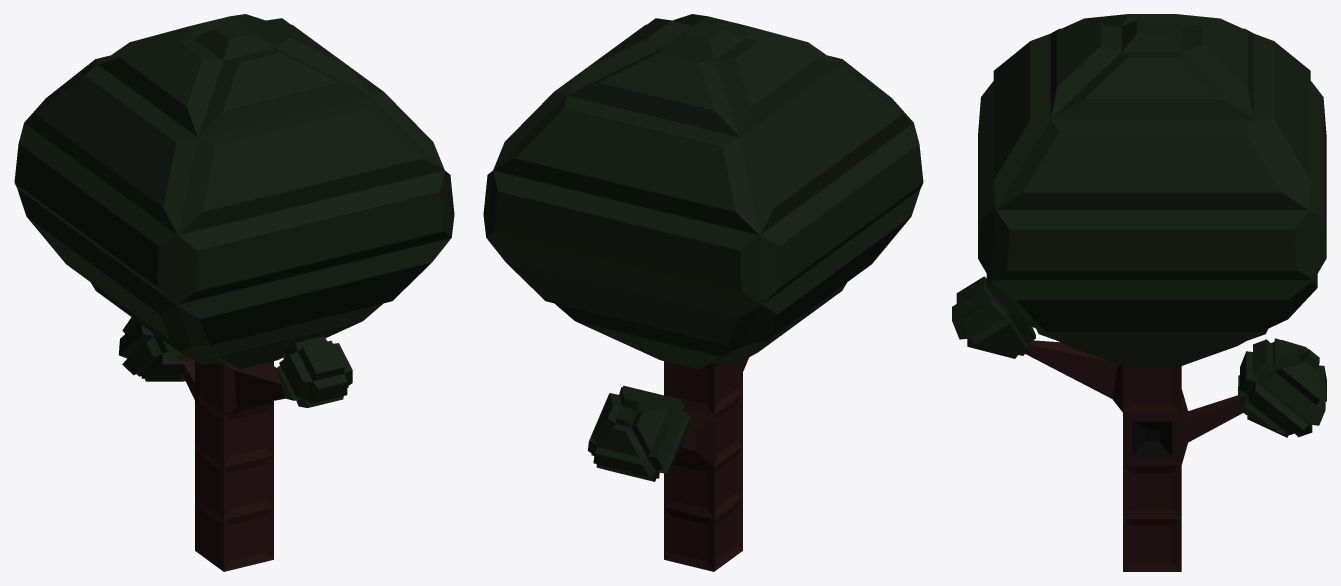
File: outgrown tree.FBX
3 views of the same model, side by side, from view 1: azimuth 30°, elevation 25°; view 2: azimuth 150°, elevation 25°; view 3: azimuth 270°, elevation 25° (orthographic).
Visible parts, largest first — view 1: Outgrown Tree; view 2: Outgrown Tree; view 3: Outgrown Tree.
Part boxes in pixels (box(x1,y1,x2,y2)): Outgrown Tree: box(14, 14, 454, 571); Outgrown Tree: box(483, 14, 923, 571); Outgrown Tree: box(952, 14, 1326, 571).
Size of the model in its own units: 59.54 by 100 by 63.99.
